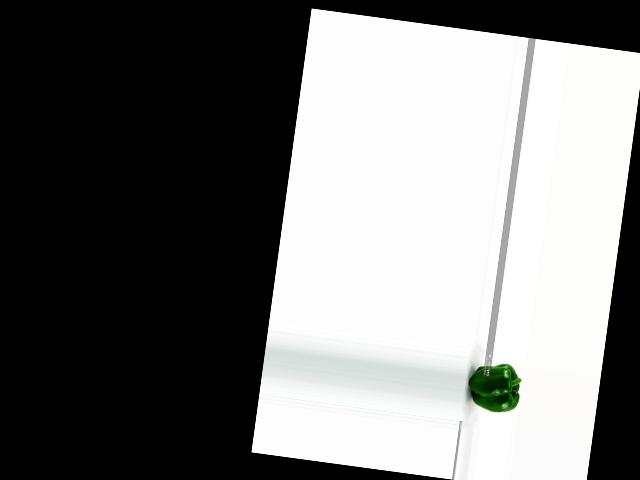bell_pepper: (463, 359, 526, 417)
